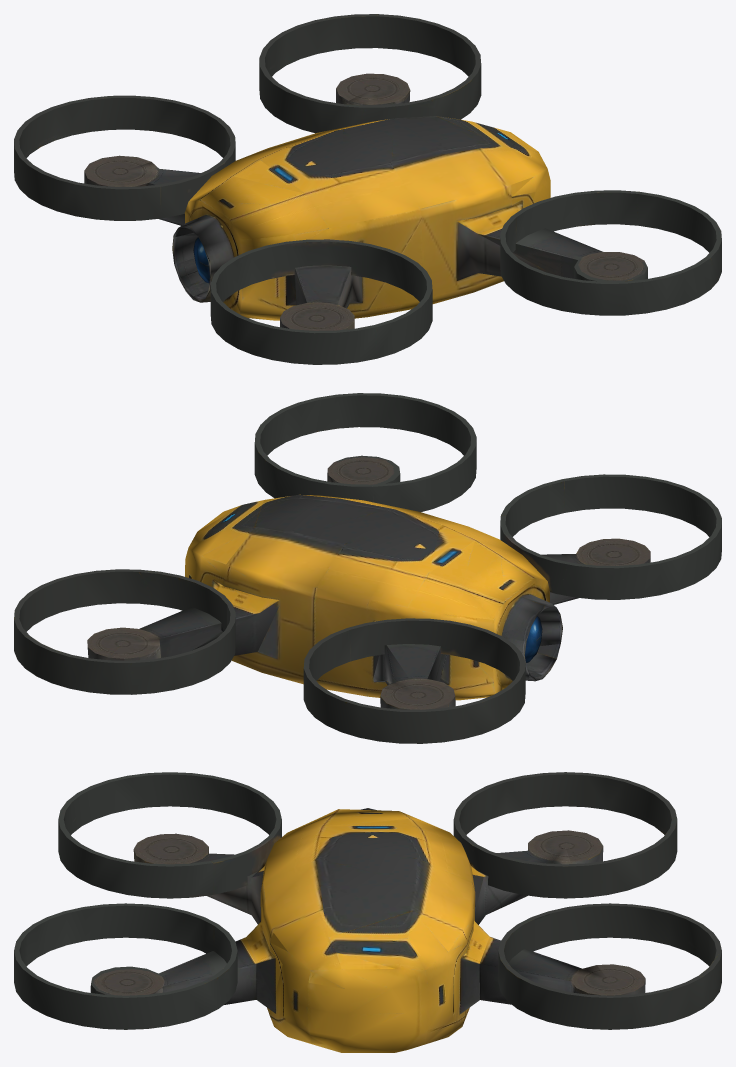
Rendered from DroneBody.fbx.
3 views of the same model, one above another, from view 1: azimuth 30°, elevation 25°; view 2: azimuth 150°, elevation 25°; view 3: azimuth 270°, elevation 25° (orthographic).
Visible parts, largest first — view 1: mesh_node; view 2: mesh_node; view 3: mesh_node.
Part boxes in pixels (x1,y1,x2,y2): mesh_node: (14, 14, 721, 364); mesh_node: (14, 393, 721, 743); mesh_node: (14, 772, 721, 1052).
Size of the model in its own units: 9801 by 3000 by 12984.
Materials: 1 (1 with a texture image).
